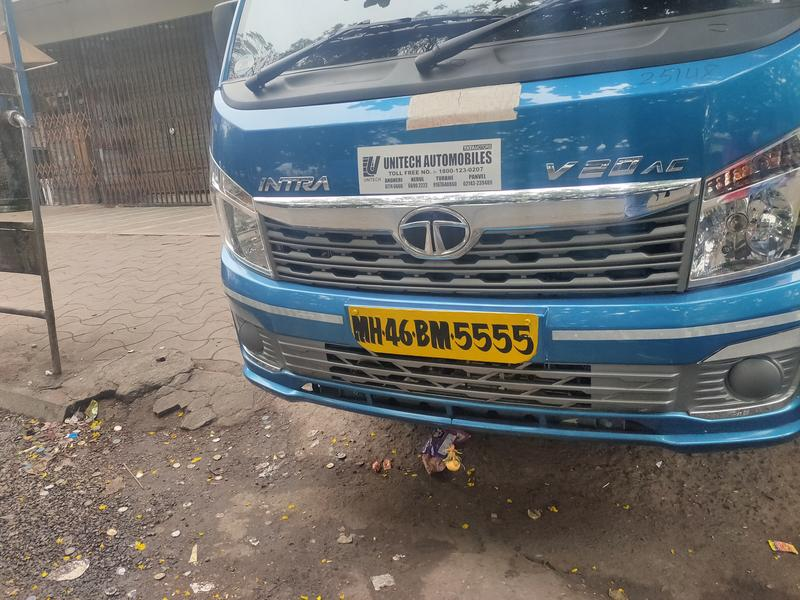license_plate: (338, 292, 544, 381)
